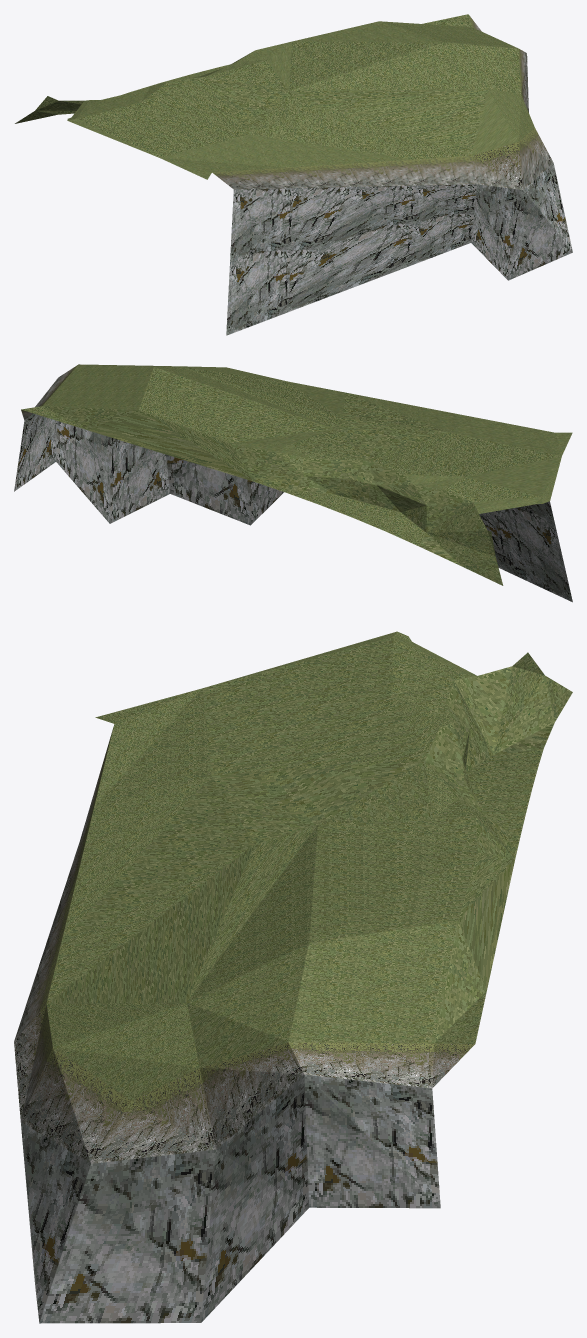
Rendered from lodcuntw68.obj.
3 views of the same model, one above another, from view 1: azimuth 30°, elevation 25°; view 2: azimuth 150°, elevation 25°; view 3: azimuth 270°, elevation 25° (orthographic). The views are drawn at different scales.
Visible parts, largest first — view 1: lodcuntw68; view 2: lodcuntw68; view 3: lodcuntw68.
Boxes of the visible parts, x1,y1,x2,y2 form: lodcuntw68: (15, 14, 572, 335); lodcuntw68: (14, 364, 572, 602); lodcuntw68: (14, 631, 572, 1323).
Bounding box in the file's own units: 178 × 70.15 × 102.
3 materials, 3 textured.
